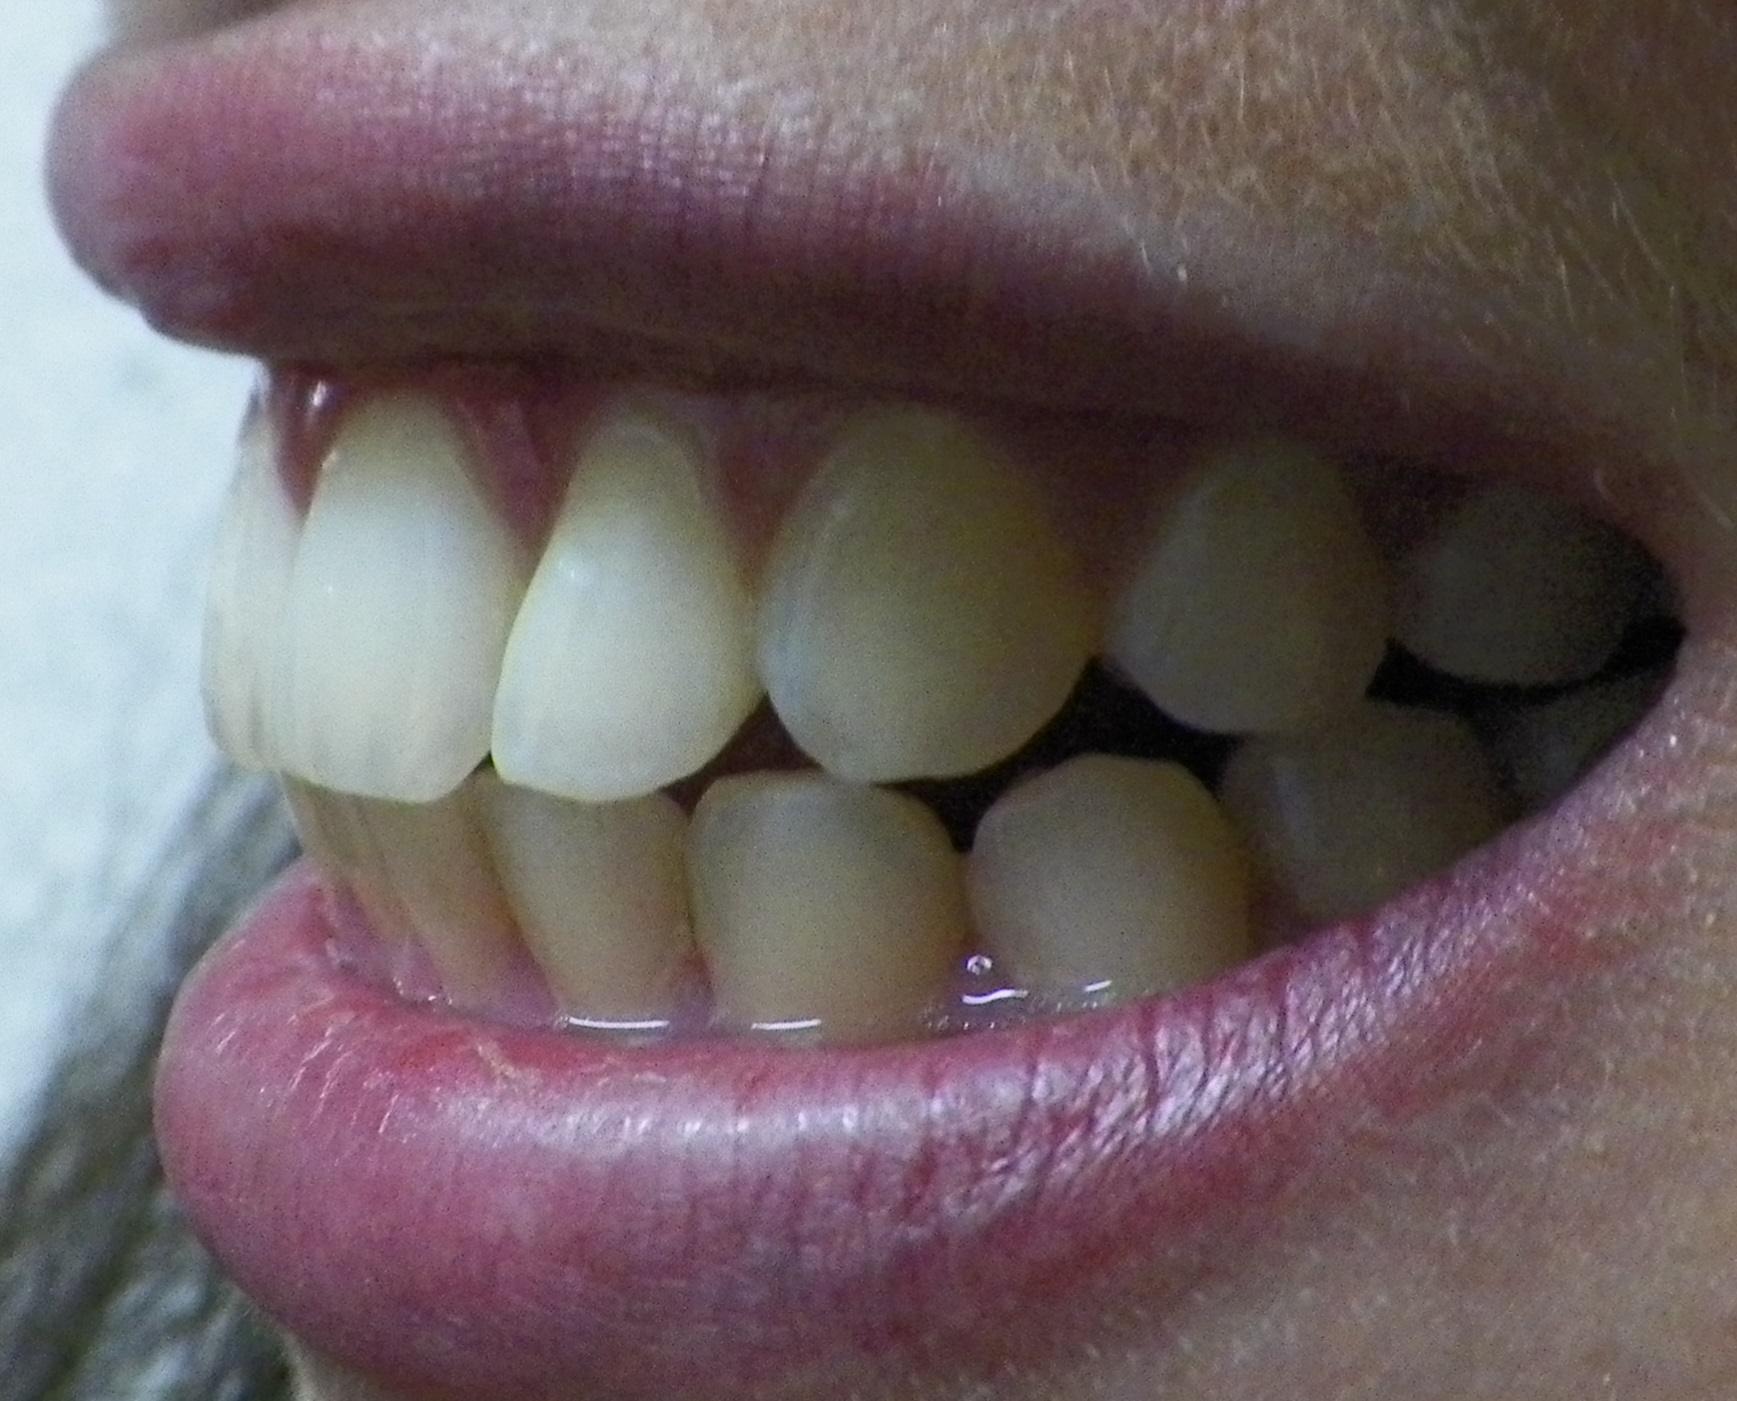boca: (203, 365, 1505, 1019)
